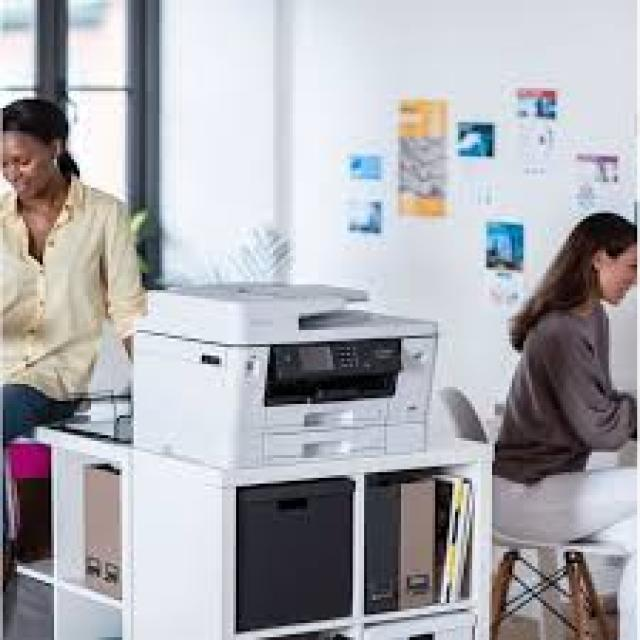printer: (128, 279, 438, 466)
